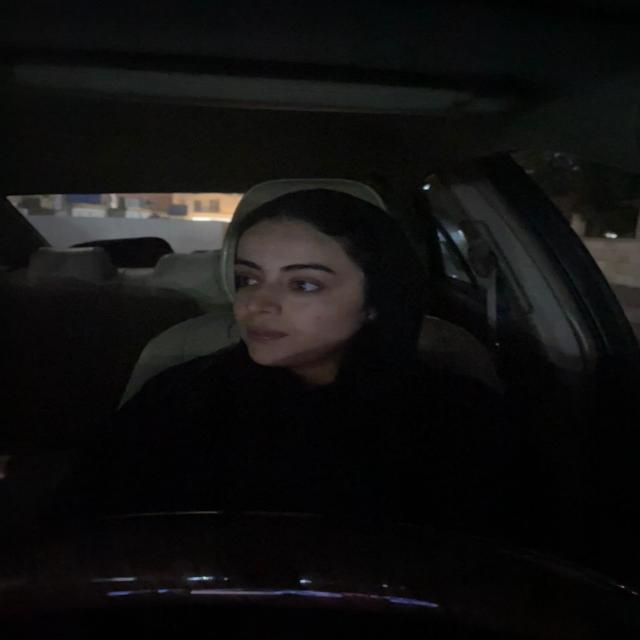person: (214, 183, 416, 385)
